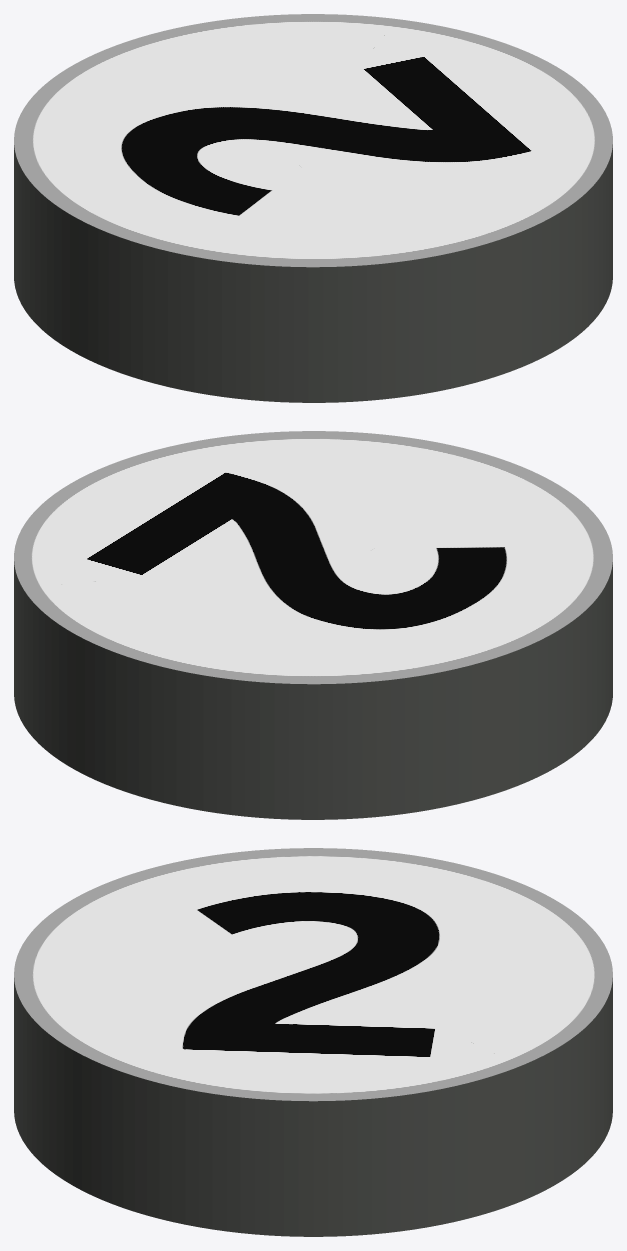
Rendered from stepper_2.dae.
The picture shows the model from 3 angles, top to bottom: view 1: azimuth 30°, elevation 25°; view 2: azimuth 150°, elevation 25°; view 3: azimuth 270°, elevation 25°; orthographic projection.
Visible parts, largest first — view 1: Cylinder; view 2: Cylinder; view 3: Cylinder.
Part boxes in pixels (x1,y1,x2,y2): Cylinder: (14,14,612,402); Cylinder: (14,431,612,819); Cylinder: (14,848,612,1236).
Size of the model in its own units: 0.8 by 0.8 by 0.2.
Materials: 1 (1 with a texture image).
